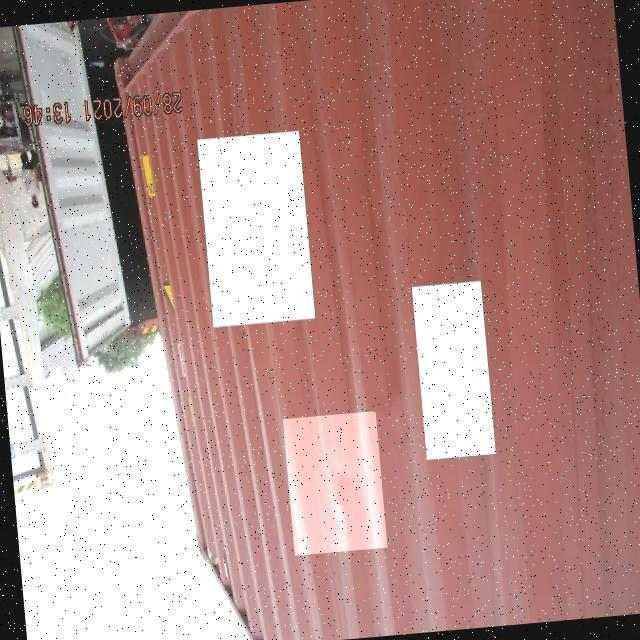Minor-Dent: (282, 411, 387, 556)
